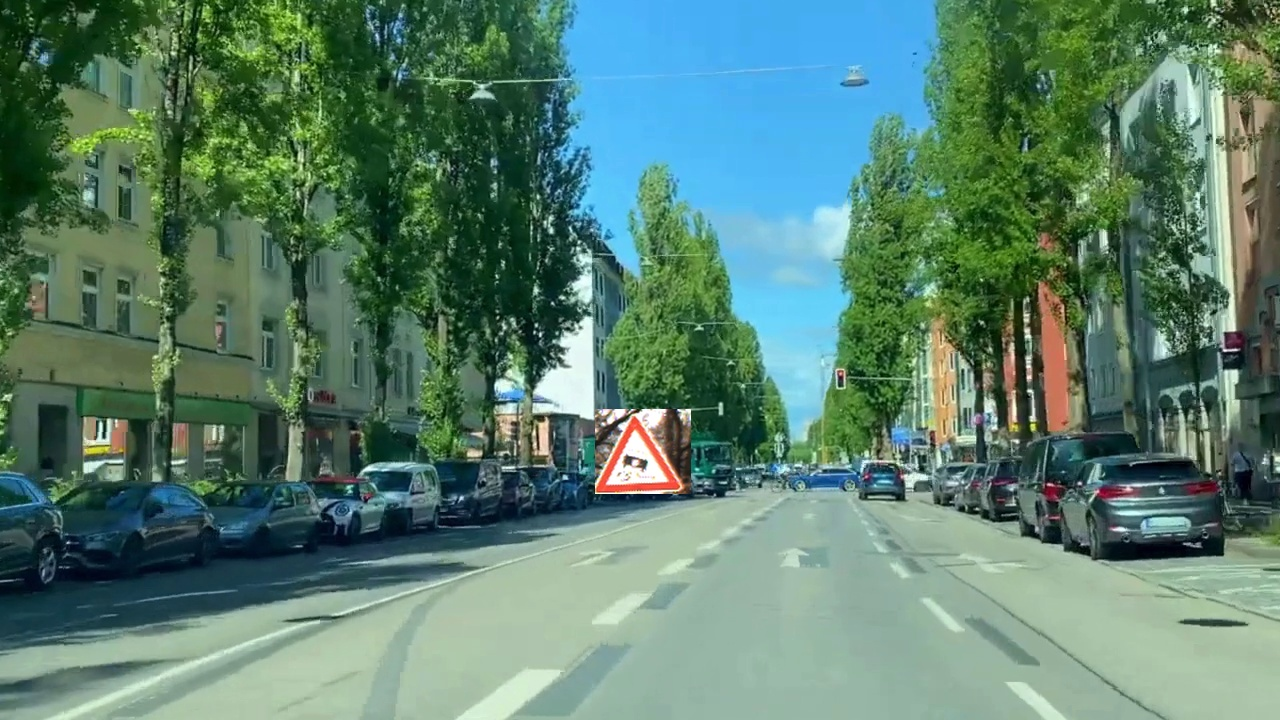Slippery: (595, 409, 691, 494)
